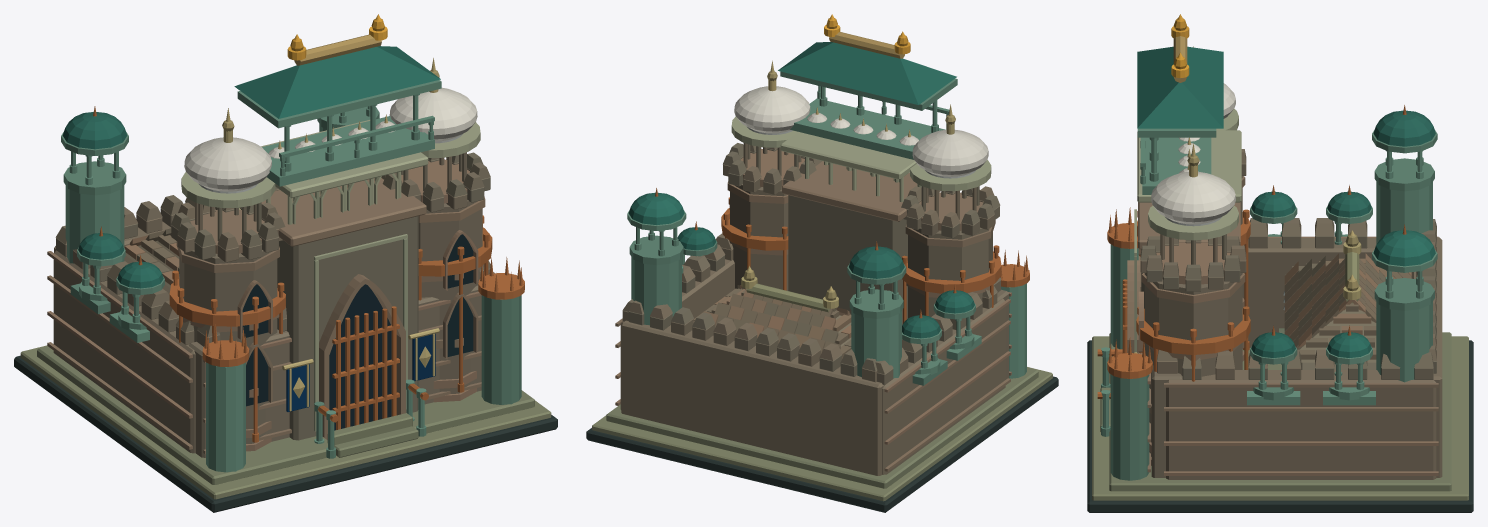
3 views of the same model, side by side, from view 1: azimuth 30°, elevation 25°; view 2: azimuth 150°, elevation 25°; view 3: azimuth 270°, elevation 25° (orthographic). The views are drawn at different scales.
Visible parts, largest first — view 1: barracks_L9_0, barracks_L9_1; view 2: barracks_L9_0, barracks_L9_1; view 3: barracks_L9_0, barracks_L9_1.
Boxes of the visible parts, bbox=[...] form: barracks_L9_0: bbox=[14, 18, 557, 512]; barracks_L9_1: bbox=[93, 14, 524, 442]; barracks_L9_0: bbox=[586, 18, 1058, 512]; barracks_L9_1: bbox=[655, 14, 1029, 323]; barracks_L9_0: bbox=[1087, 18, 1473, 512]; barracks_L9_1: bbox=[1097, 14, 1406, 398].
Bounding box in the file's own units: 5.6 × 6.38 × 5.6.
